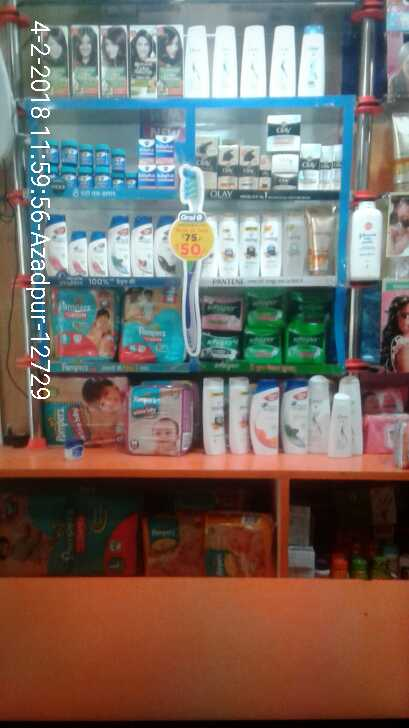vicks: (40, 124, 180, 193)
